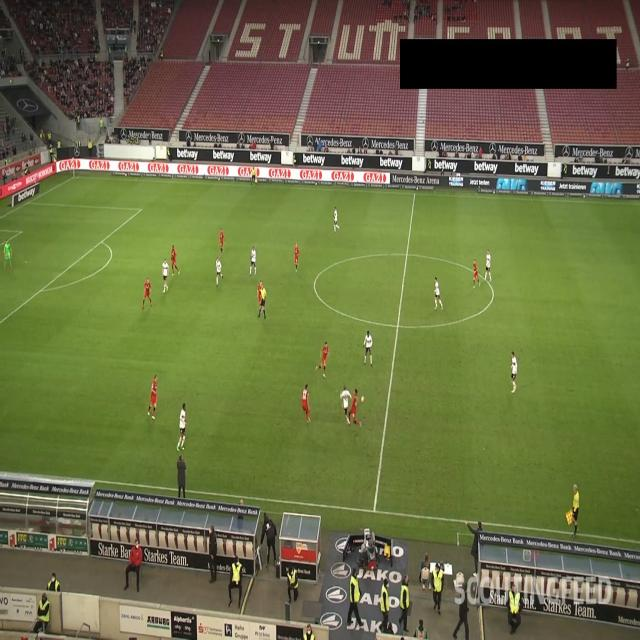ball: (360, 395, 365, 403)
